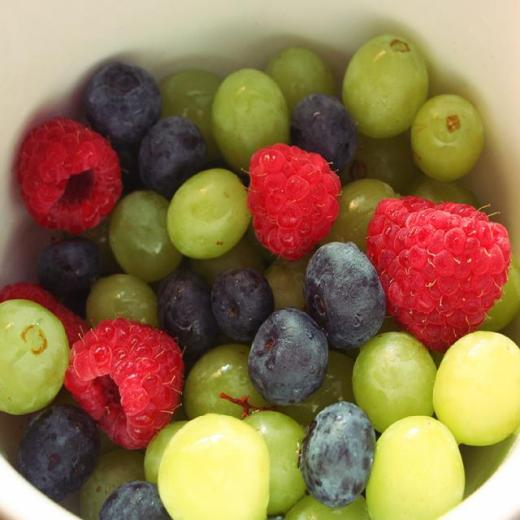Orange: (158, 414, 269, 520), (431, 332, 520, 448), (366, 416, 466, 519), (343, 32, 428, 137), (353, 332, 438, 433), (212, 68, 288, 173), (0, 299, 68, 414), (167, 169, 251, 257), (111, 190, 181, 282), (244, 413, 306, 513), (412, 94, 483, 181), (186, 346, 266, 414), (281, 349, 354, 423), (322, 179, 397, 251), (162, 70, 221, 147), (268, 48, 335, 113), (80, 450, 143, 519), (344, 138, 414, 191), (88, 274, 156, 318), (145, 422, 189, 483), (488, 254, 520, 332), (189, 256, 262, 288), (284, 496, 368, 519), (266, 258, 305, 305), (415, 185, 479, 203)
